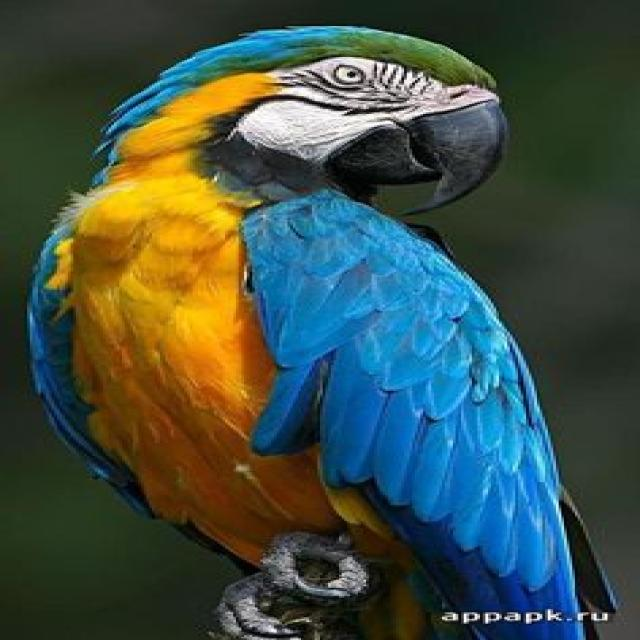Herbivorous: (30, 26, 621, 640)
